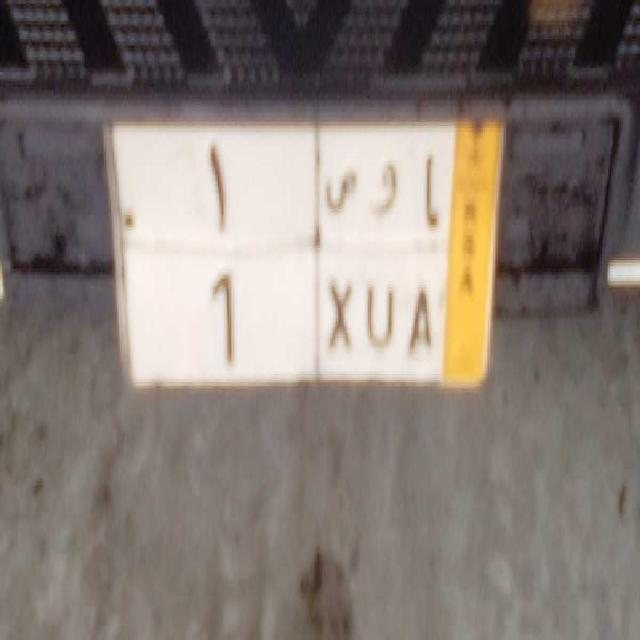license_plate: (123, 240, 446, 387)
